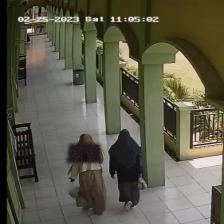Cadar_Niqab: (67, 134, 101, 162)
